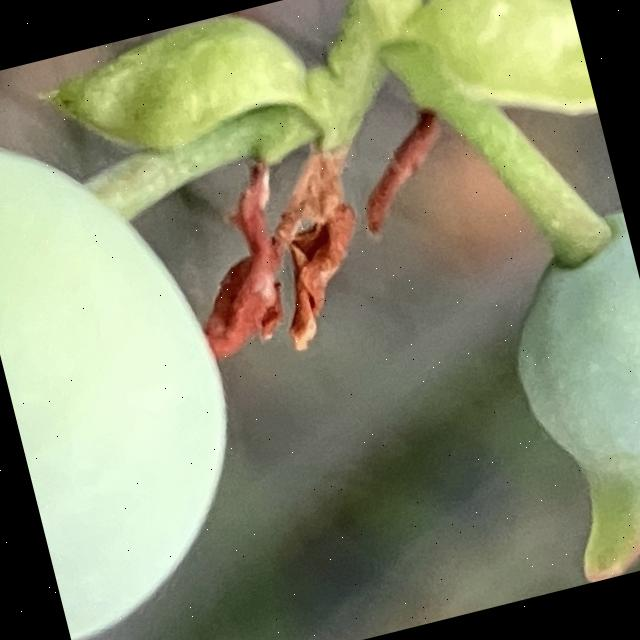Blueberries: (0, 60, 307, 640)
